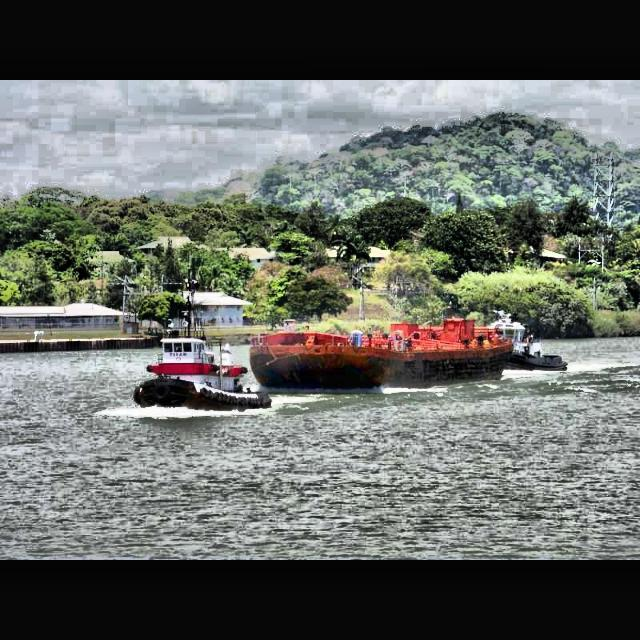container: (246, 302, 516, 393)
tug: (134, 320, 272, 412), (477, 306, 573, 374)
